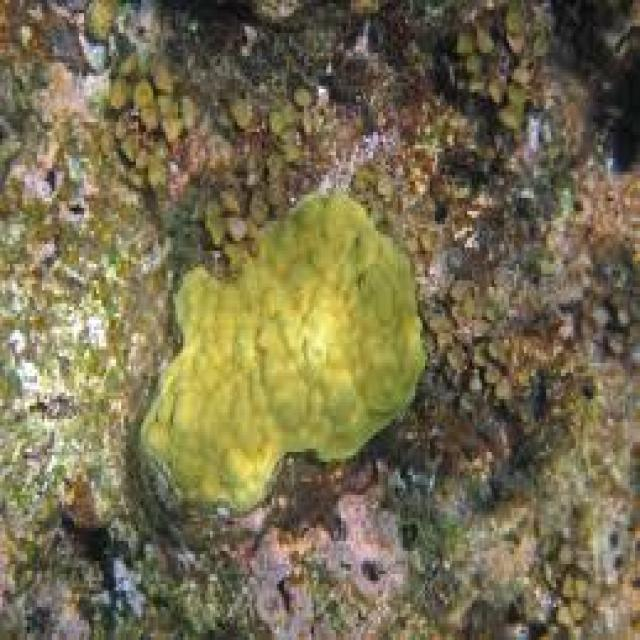Coral: (135, 190, 426, 521)
